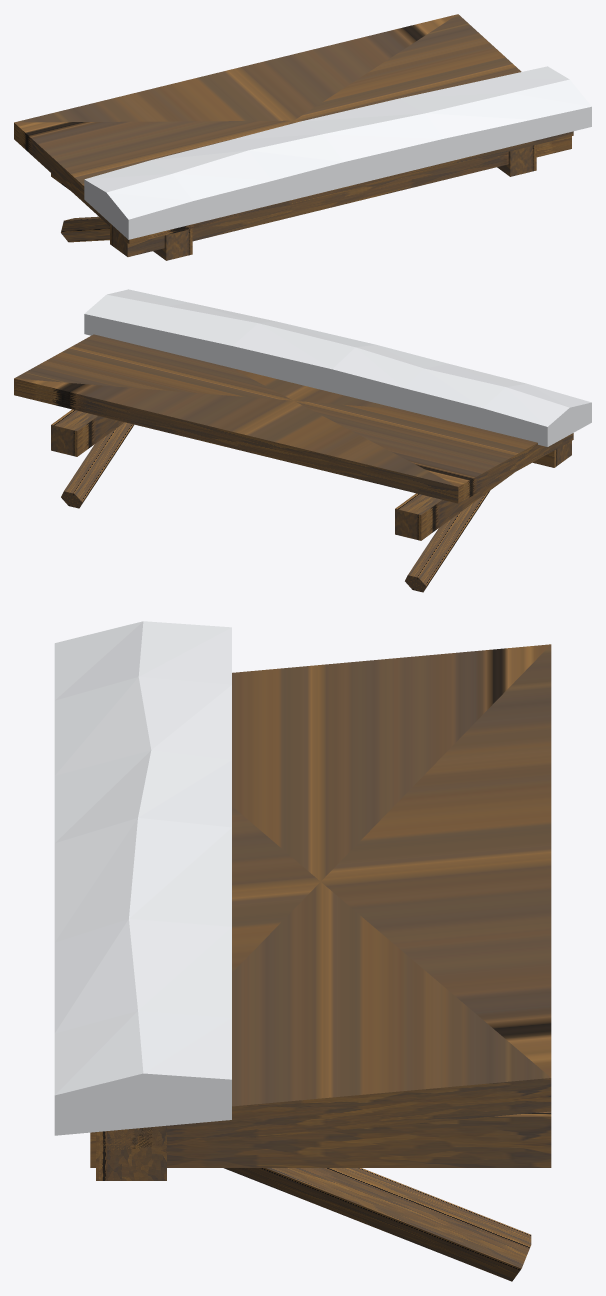
File: door_hood_snow.glb
3 views of the same model, one above another, from view 1: azimuth 30°, elevation 25°; view 2: azimuth 150°, elevation 25°; view 3: azimuth 270°, elevation 25° (orthographic). The views are drawn at different scales.
Visible parts, largest first — view 1: winter_door_hood_snow; view 2: winter_door_hood_snow; view 3: winter_door_hood_snow.
Boxes of the visible parts, x1,y1,x2,y2 form: winter_door_hood_snow: [14, 14, 591, 260]; winter_door_hood_snow: [14, 289, 591, 592]; winter_door_hood_snow: [54, 621, 551, 1281].
Bounding box in the file's own units: 1.94 × 0.55 × 0.9.
Materials: 2 (1 with a texture image).
